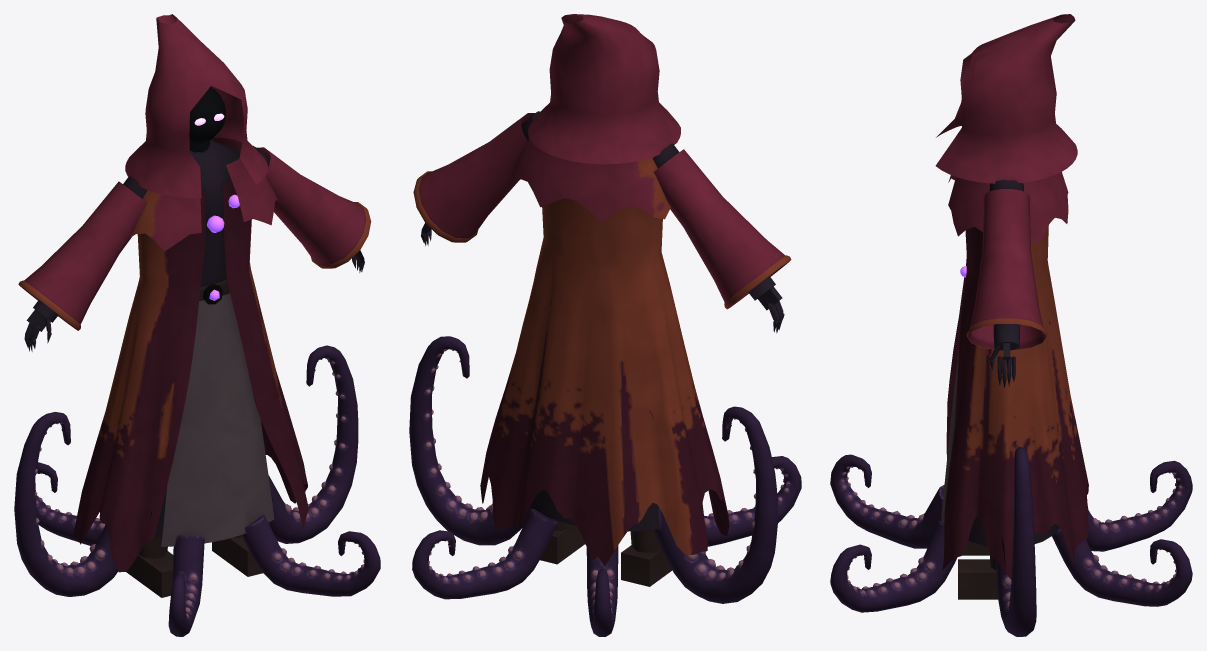
Rendered from cultista_malha.glb.
3 views of the same model, side by side, from view 1: azimuth 30°, elevation 25°; view 2: azimuth 150°, elevation 25°; view 3: azimuth 270°, elevation 25° (orthographic). The views are drawn at different scales.
Parts seen in each view (by area): view 1: cultista; view 2: cultista; view 3: cultista.
Part boxes in pixels (x1=…): cultista: x1=14, y1=14, x2=380, y2=636; cultista: x1=409, y1=14, x2=801, y2=636; cultista: x1=830, y1=14, x2=1192, y2=636.
Bounding box in the file's own units: 1.24 × 1.86 × 1.09.
Materials: 1 (1 with a texture image).
